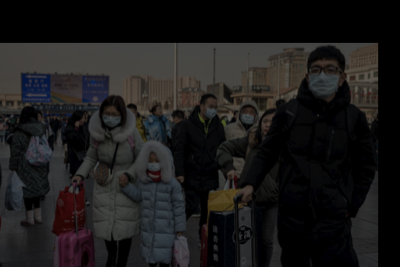with_mask: (308, 62, 340, 98), (101, 109, 121, 125), (239, 107, 255, 124), (203, 102, 218, 118), (145, 156, 161, 170)
without_mask: (260, 117, 273, 134), (79, 115, 86, 124), (156, 106, 163, 114)
